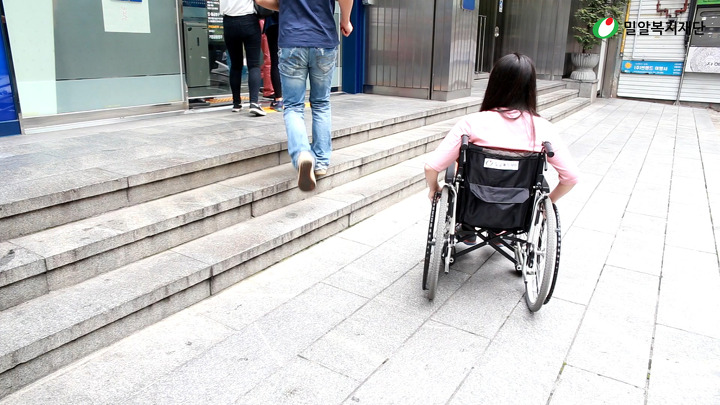wheelchair: (422, 54, 580, 315)
